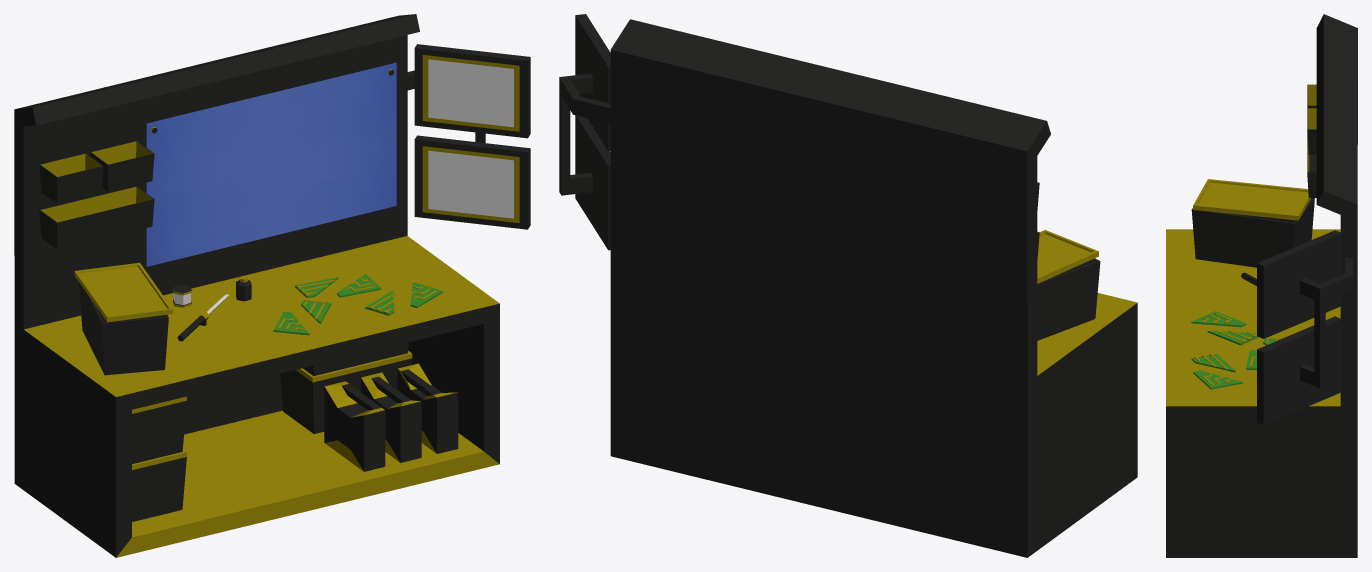
The model's file is Engineering_Station.fbx.
3 views of the same model, side by side, from view 1: azimuth 30°, elevation 25°; view 2: azimuth 150°, elevation 25°; view 3: azimuth 270°, elevation 25° (orthographic). The views are drawn at different scales.
Visible parts, largest first — view 1: Engineering_Station; view 2: Engineering_Station; view 3: Engineering_Station.
Boxes of the visible parts, bbox=[...] form: Engineering_Station: bbox=[14, 14, 530, 557]; Engineering_Station: bbox=[559, 14, 1137, 557]; Engineering_Station: bbox=[1166, 14, 1357, 557].
Size of the model in its own units: 3.98 by 1.5 by 3.17.
